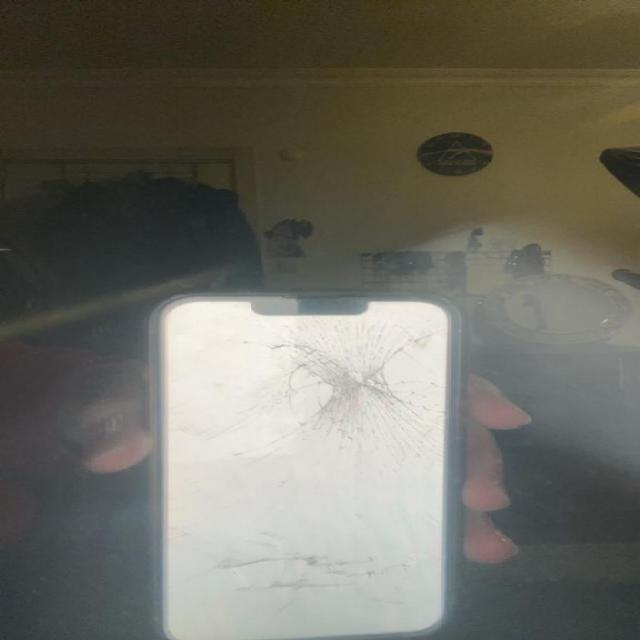Crack: (258, 320, 433, 453)
